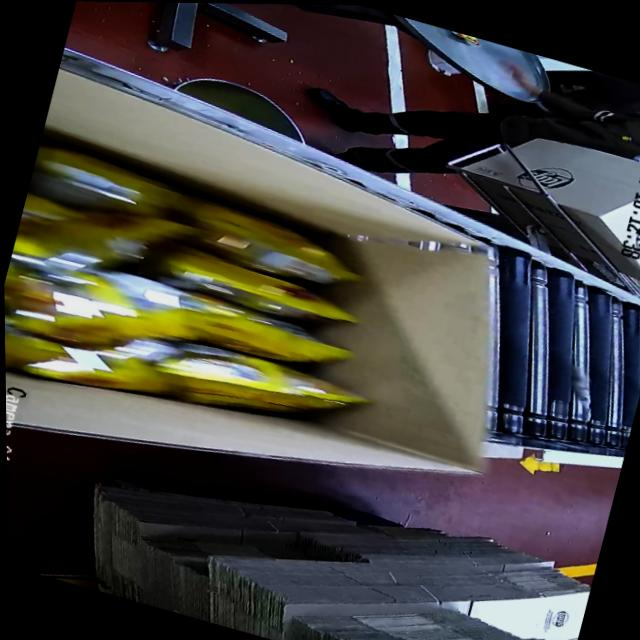SALTED: (2, 159, 406, 460)
